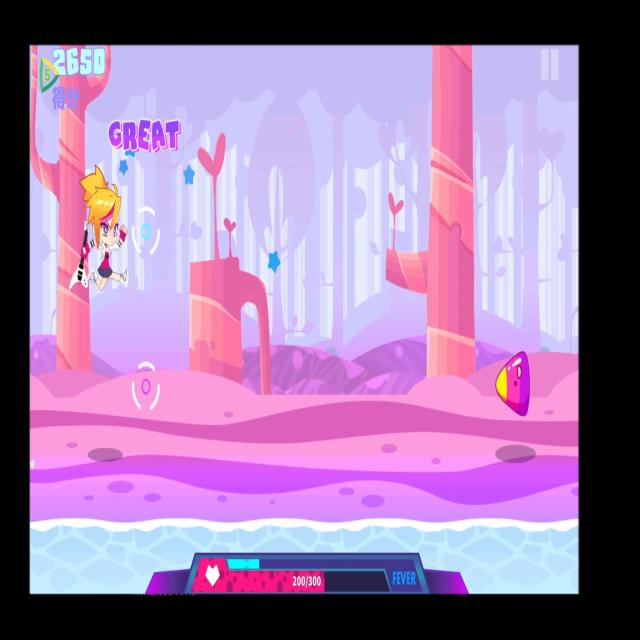Ground Monster - Red Bullet: (490, 342, 536, 439)
